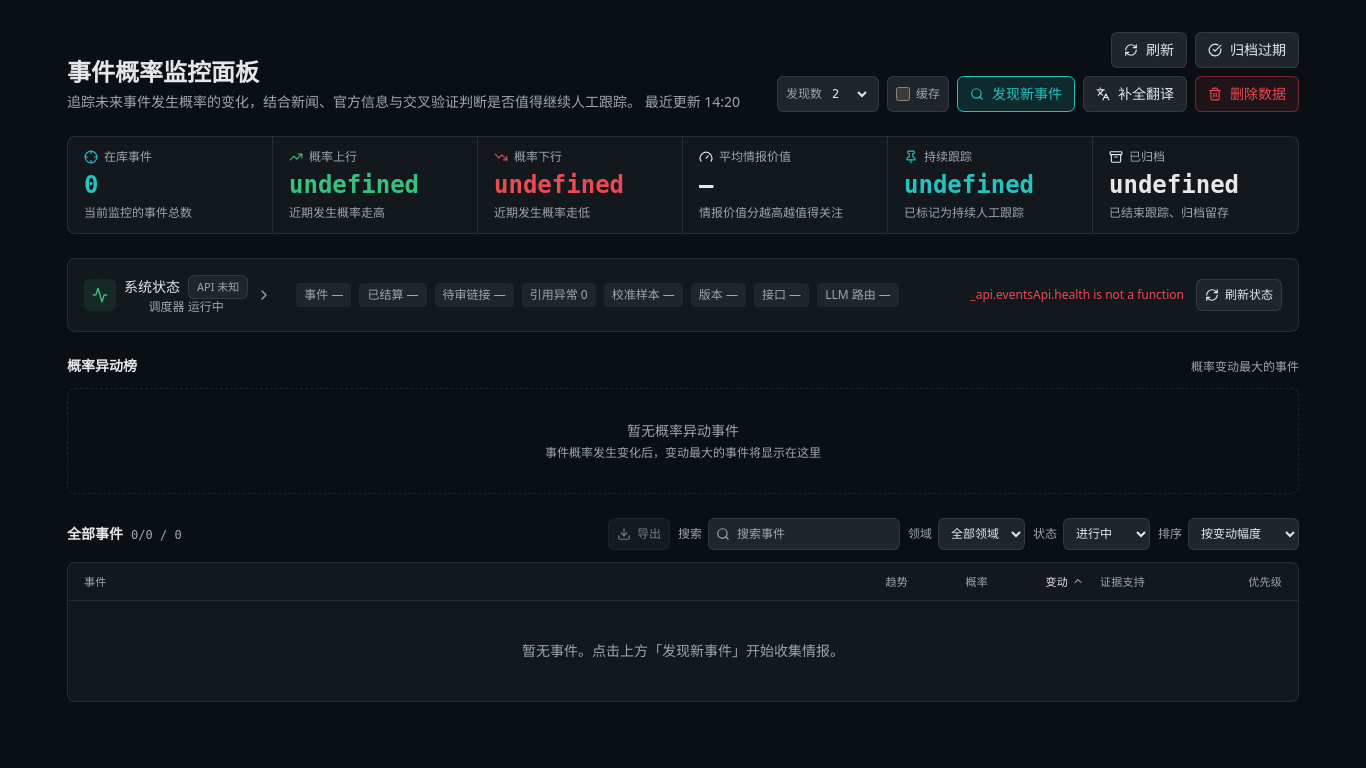
Test: DashboardPage cache › surfaces a translation write failure instead of failing silently
Click the button "补全翻译" at point(1135, 94), box [1083,76,1187,112]
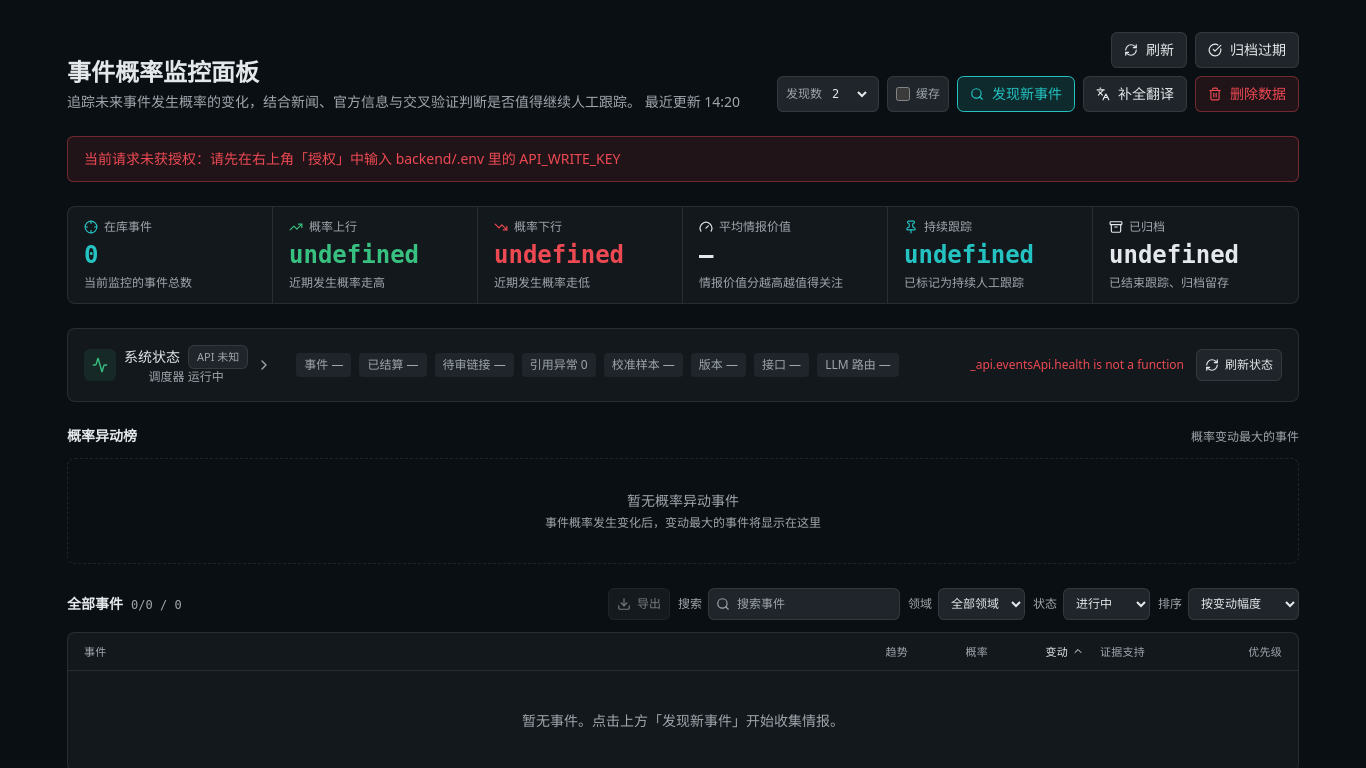
Check: the text "当前请求未获授权：请先在右上角「授权」中输入 backend/.env 里的 API_WRITE_KEY" is shown, box [67,136,1299,182]
